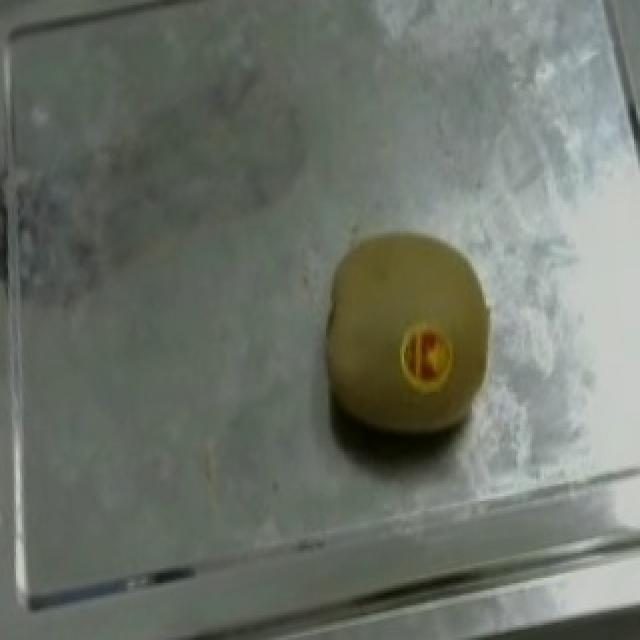Fruit: (292, 206, 528, 479)
